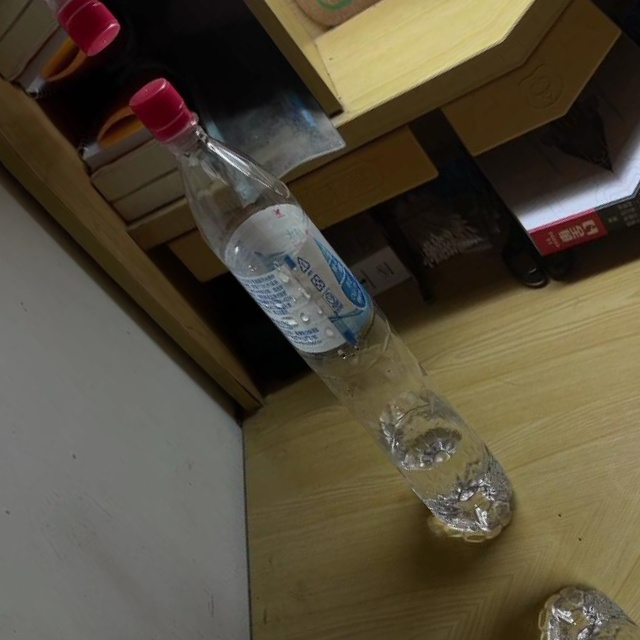Water: (102, 56, 548, 560)
